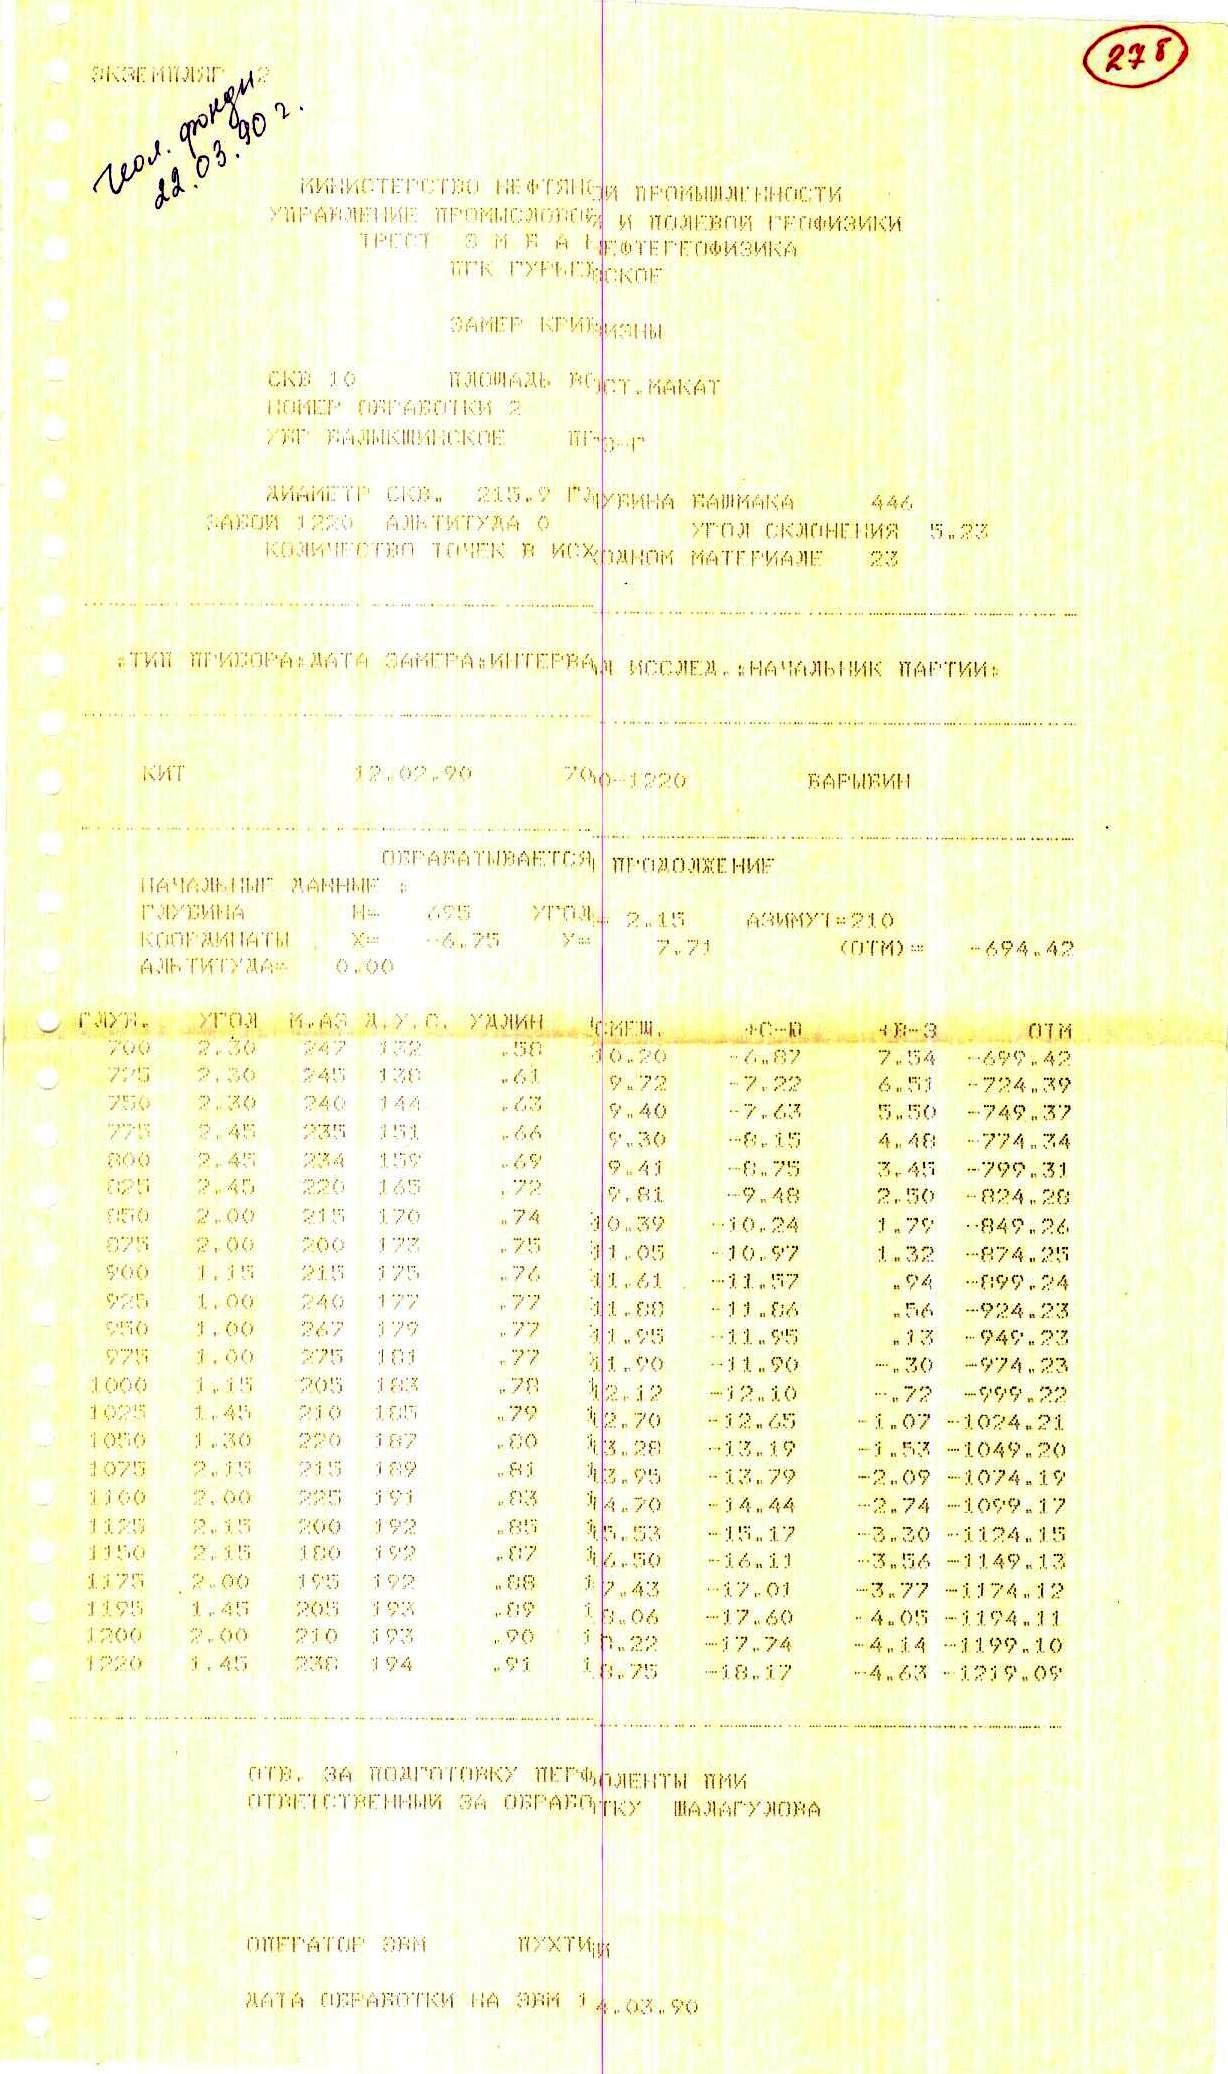Borderless: (57, 965, 1105, 1720)
